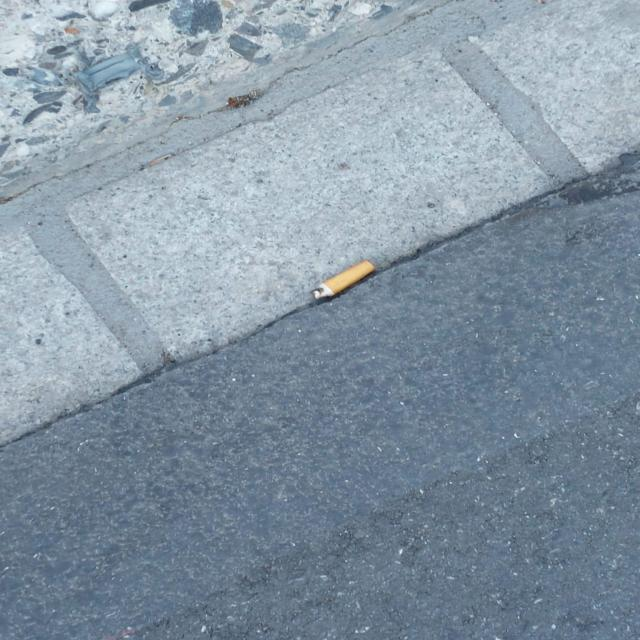other waste: (310, 259, 376, 300)
